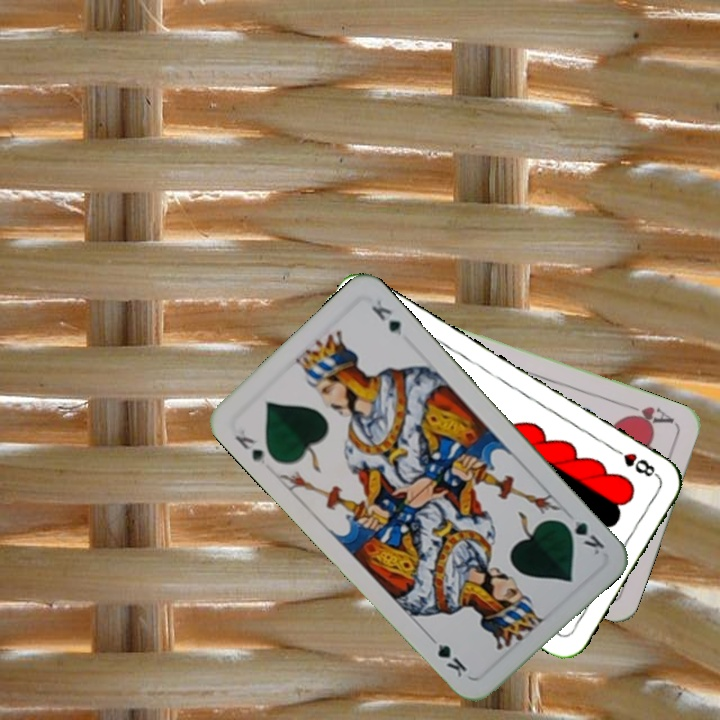GK: (557, 508, 608, 558), (230, 422, 268, 467)
H8: (607, 443, 661, 480)
HA: (620, 399, 677, 429)
